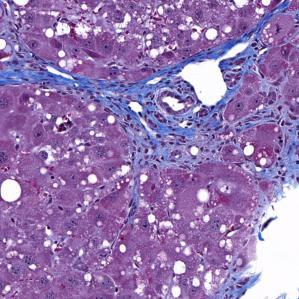fibrosis: (103, 80, 224, 169)
